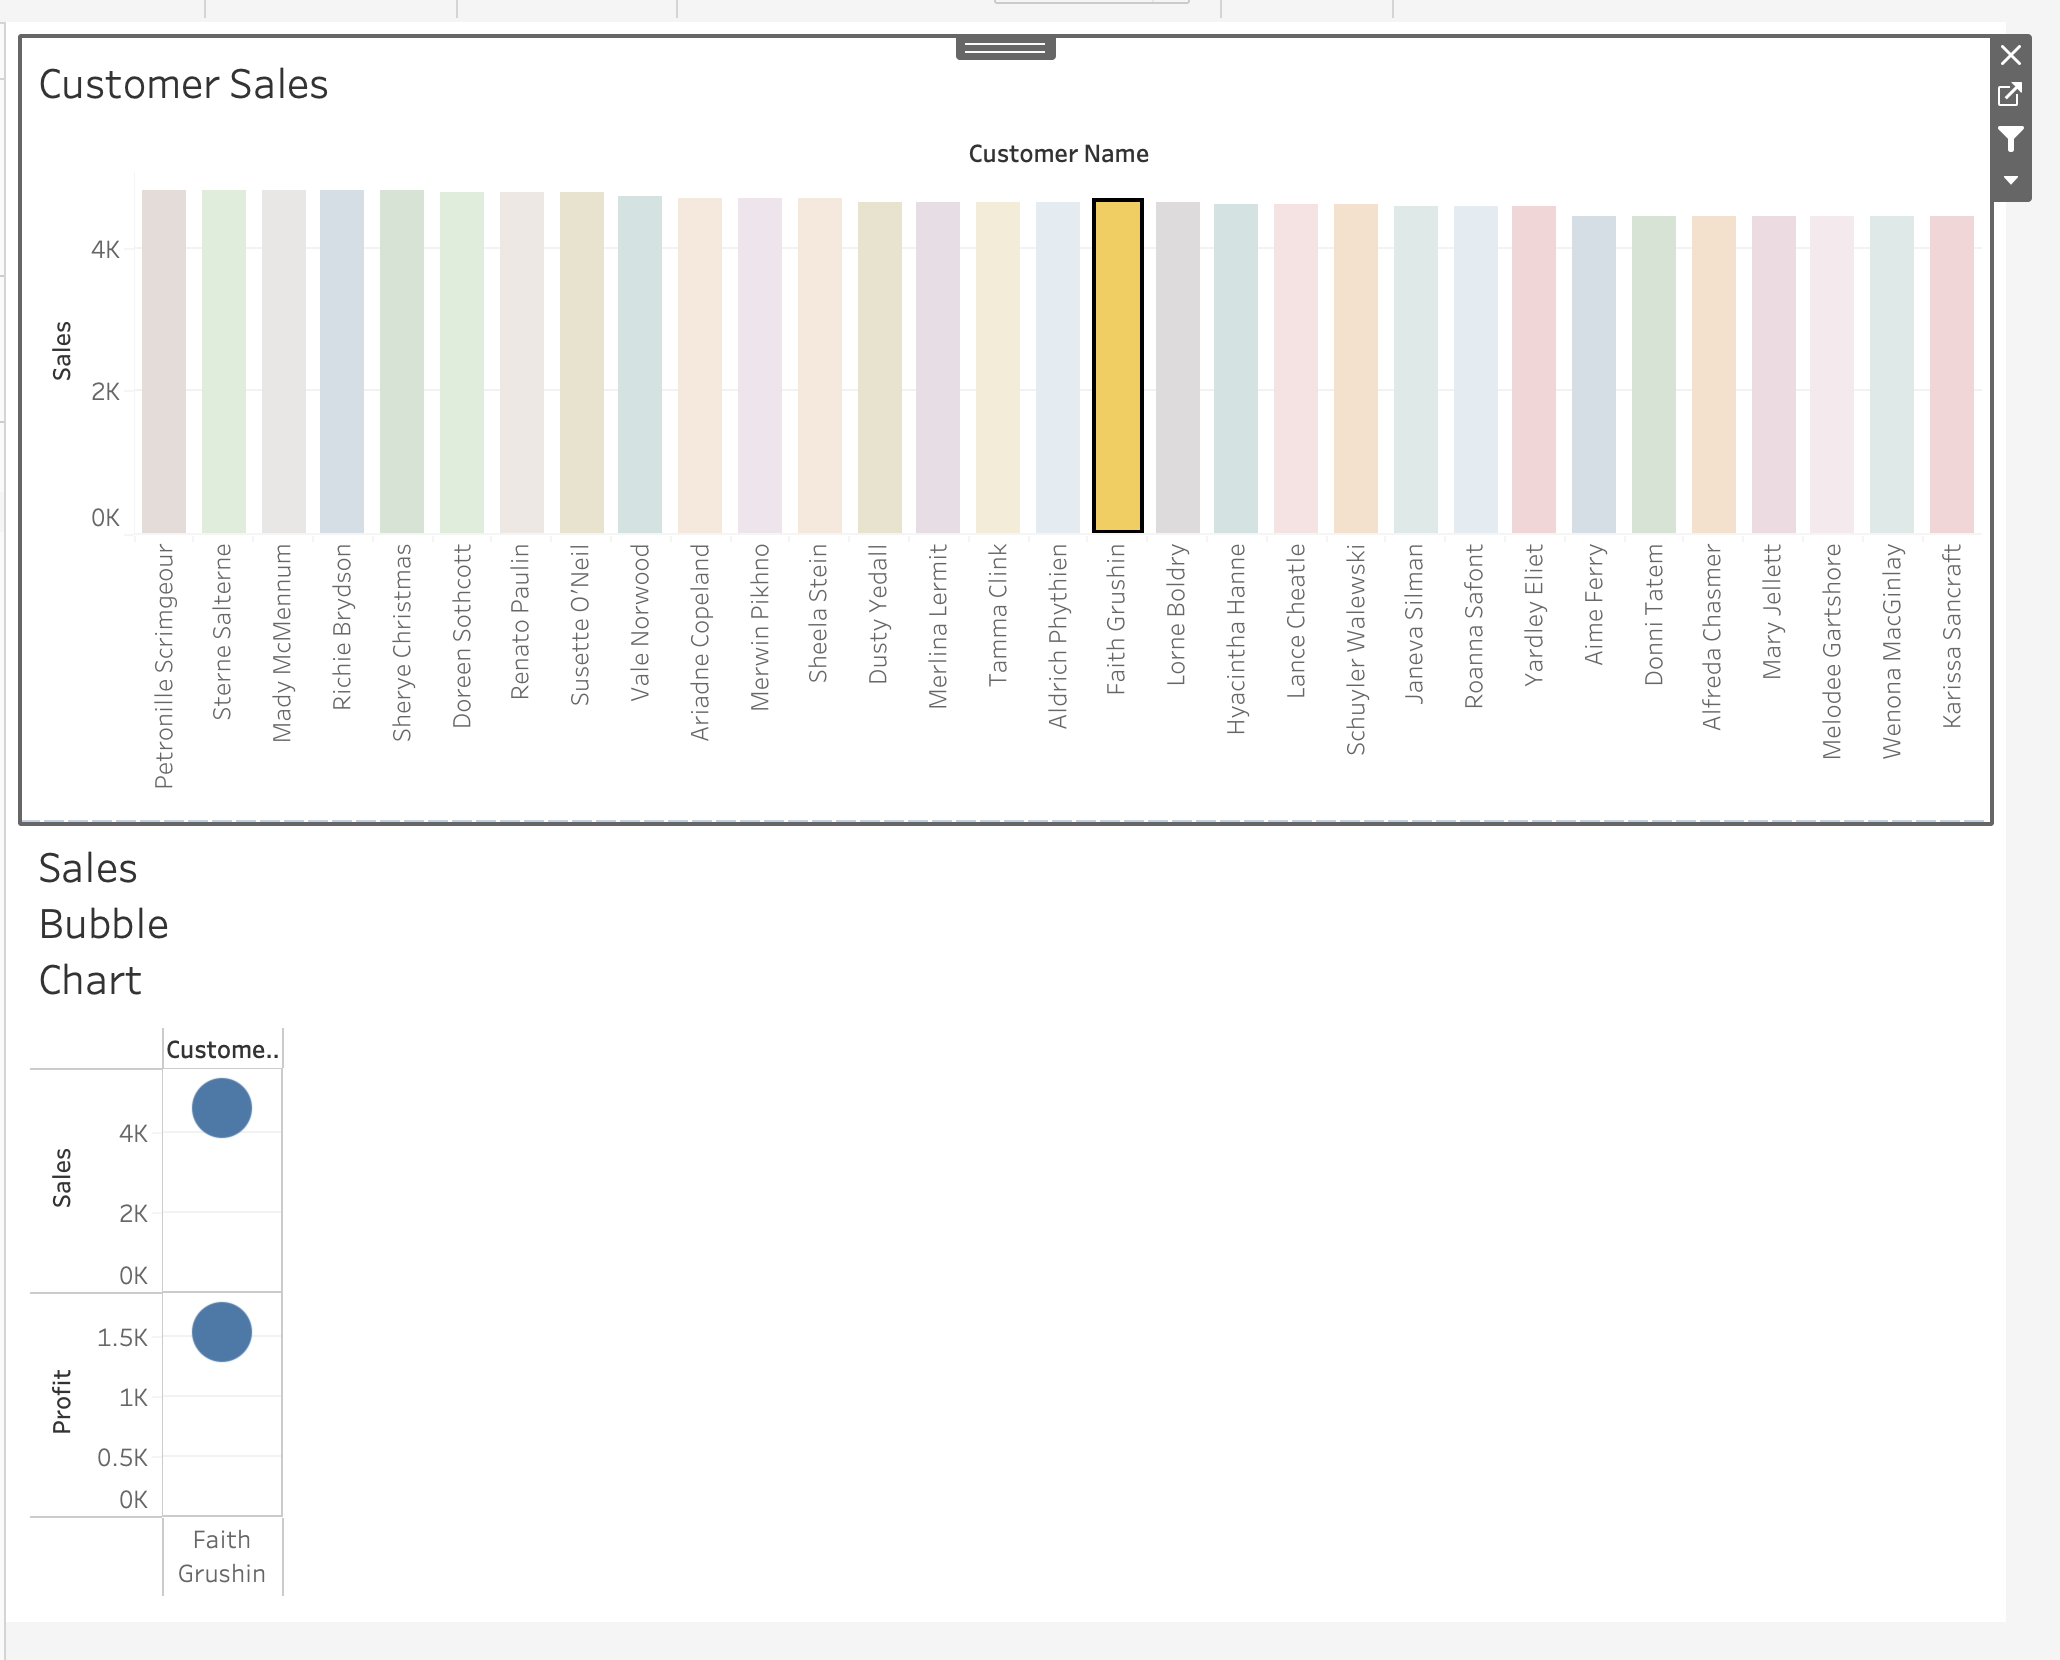

The page's visual inventory and layout, read from the dashboard file:
{"tool":"tableau","page":{"name":"Interactive Dashboard","canvas":[1000,800],"ordinal":0},"visuals":[{"type":"worksheet","title":"Customer Sales","mark":"Automatic","rows":["Sales"],"cols":["Customer Name"],"box":[8,8,984,392]},{"type":"worksheet","title":"Sales Bubble Chart","mark":"Circle","rows":["Sales","Calculation_3690136997988511746"],"cols":["Customer Name"],"box":[8,400,984,392]}]}

Visuals, with their boxes in screenshot pixels (x1, y1, x2, y2):
"Customer Sales" worksheet: [11,27,2010,823]
"Sales Bubble Chart" worksheet (Circle marks): [11,823,2010,1620]
